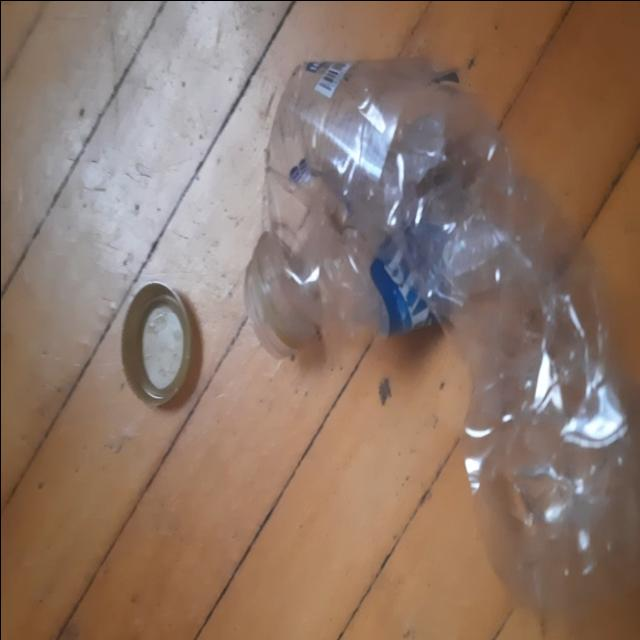Plastic: (245, 57, 638, 627)
